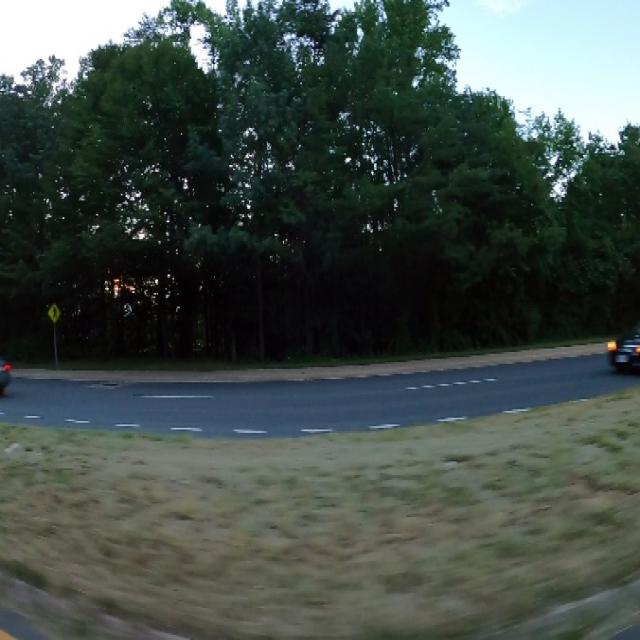cars: (604, 303, 640, 398), (0, 340, 16, 403)
